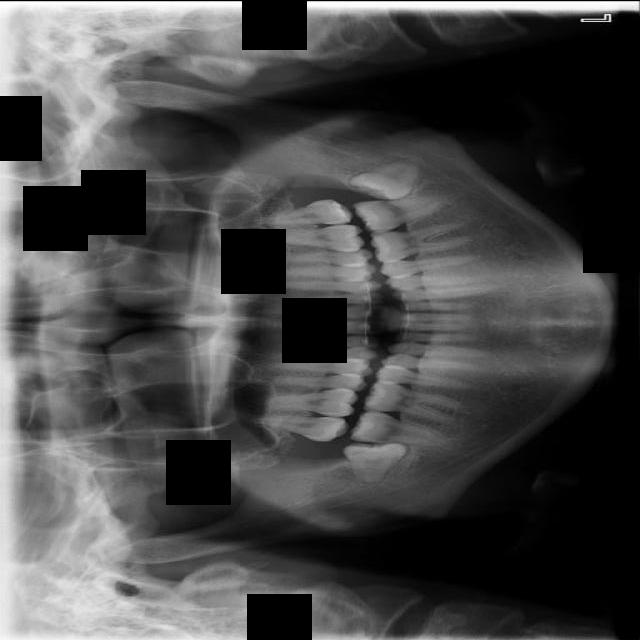73: (588, 26, 604, 35)
BioHorizons Implant: (252, 198, 353, 228)
Biomet 3i Implant: (349, 152, 431, 212)
Blue Sky Bio Implant: (352, 193, 451, 234)
Caries: (251, 413, 349, 442)
Implant: (349, 407, 457, 450)
Keystone Dental Implant: (341, 437, 409, 484)
